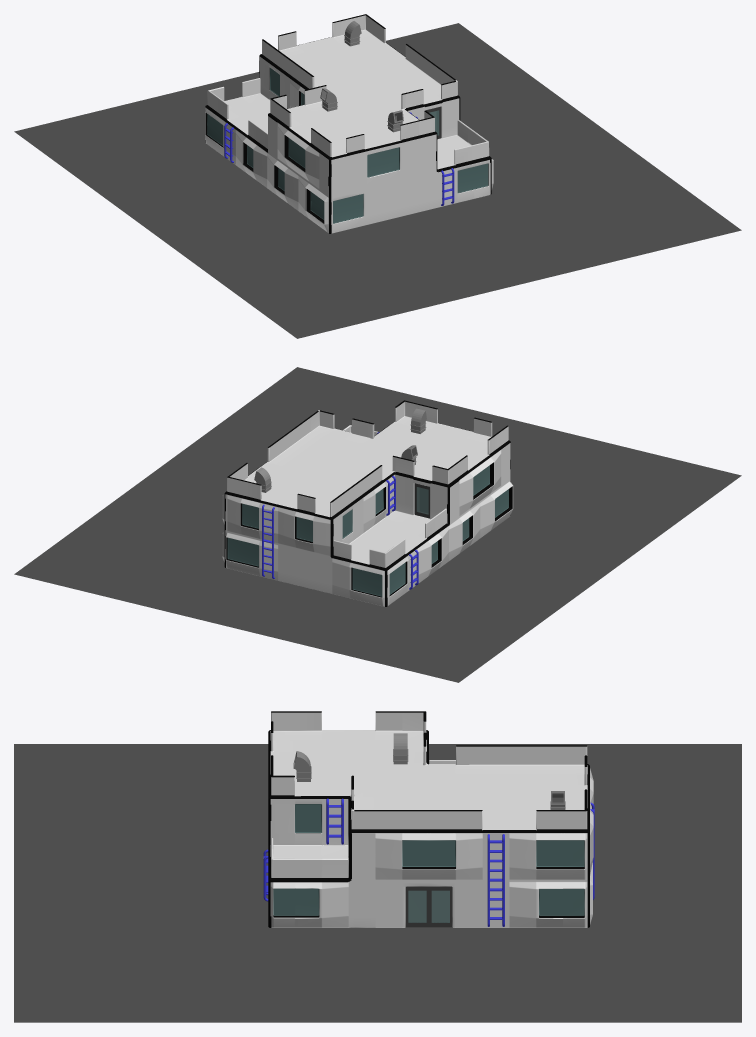
The model's file is textured-2-story-building.fbx.
3 renders of one model, top to bottom at view 1: azimuth 30°, elevation 25°; view 2: azimuth 150°, elevation 25°; view 3: azimuth 270°, elevation 25°, orthographic. The views are drawn at different scales.
Parts seen in each view (by area): view 1: pPlane4, pCube22; view 2: pPlane4, pCube22; view 3: pPlane4, pCube22, building_objects_building01_pCube69, building_objects_building01_pCube70, Deco_Outdoor_Ladder_pCube29.
Boxes of the visible parts, x1,y1,x2,y2 form: pPlane4: (14, 23, 741, 338); pCube22: (205, 14, 493, 233); pPlane4: (14, 367, 741, 682); pCube22: (222, 400, 513, 606); pPlane4: (14, 744, 741, 1022); pCube22: (268, 711, 593, 927); building_objects_building01_pCube69: (429, 886, 452, 927); building_objects_building01_pCube70: (405, 886, 428, 927); Deco_Outdoor_Ladder_pCube29: (487, 834, 504, 926).
Bounding box in the file's own units: 24.63 × 5.03 × 27.17.
